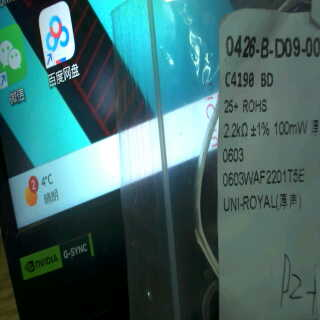2.2kR: (222, 119, 252, 140)
